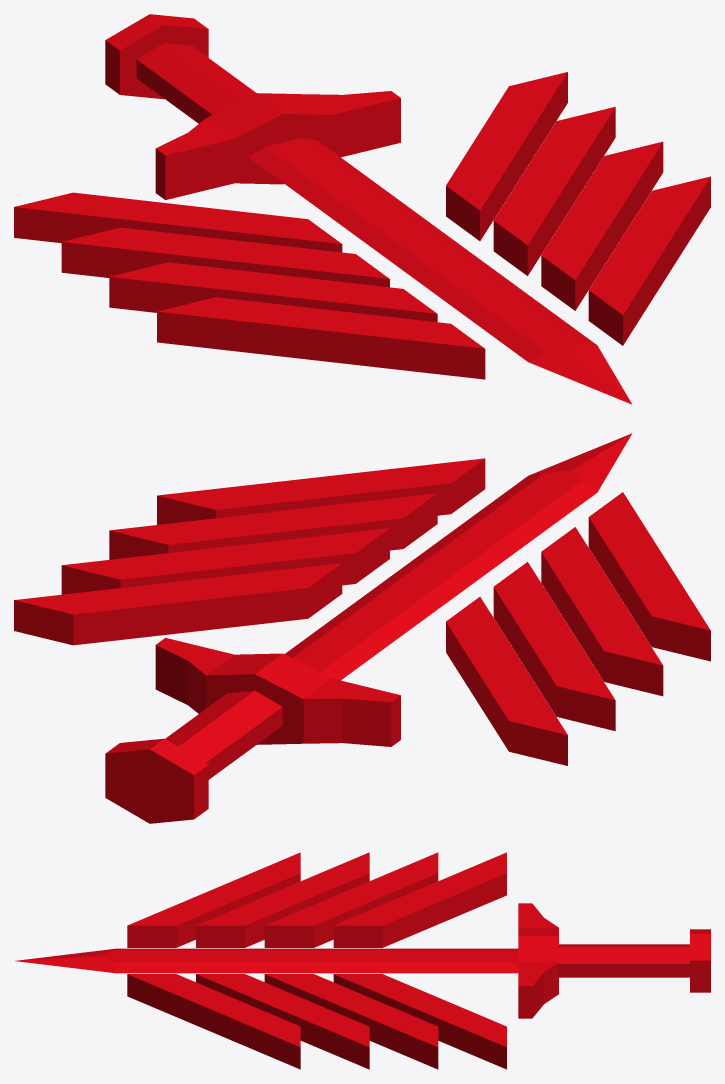
File: attack_marker.fbx
3 views of the same model, one above another, from view 1: azimuth 30°, elevation 25°; view 2: azimuth 150°, elevation 25°; view 3: azimuth 270°, elevation 25° (orthographic). The views are drawn at different scales.
Parts seen in each view (by area): view 1: Плоскость; view 2: Плоскость; view 3: Плоскость.
Boxes of the visible parts, box(x1,y1,x2,y2) form: Плоскость: box(14, 14, 710, 404); Плоскость: box(14, 433, 710, 823); Плоскость: box(15, 852, 710, 1069).
Size of the model in its own units: 125 by 16.07 by 189.
